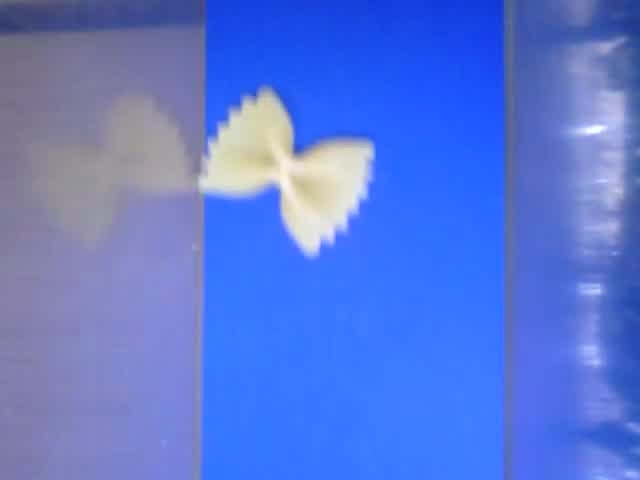farfalle: (197, 84, 378, 257)
